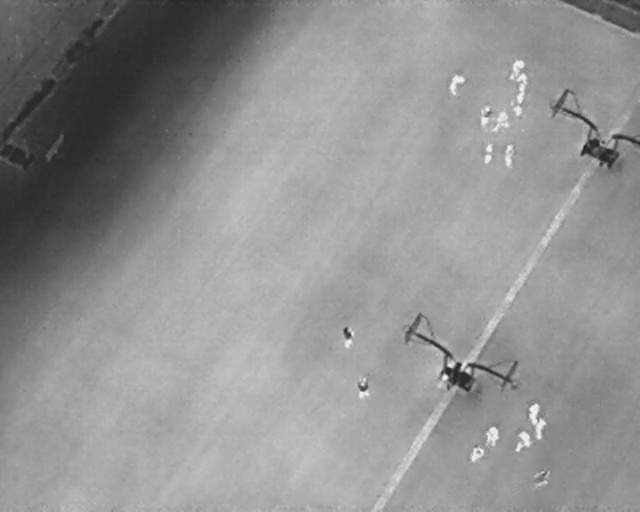Person: (491, 105, 514, 136), (446, 71, 466, 98), (506, 57, 527, 82), (467, 443, 487, 465), (484, 424, 501, 449), (526, 401, 542, 426), (477, 104, 494, 127), (532, 417, 548, 441), (516, 430, 531, 453), (513, 81, 526, 105), (482, 141, 495, 164), (356, 376, 369, 398), (342, 326, 355, 347), (505, 142, 515, 168), (515, 70, 529, 83), (513, 103, 524, 118)
